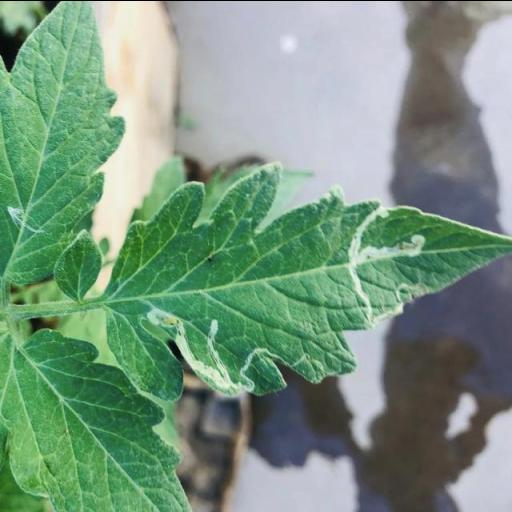Healthy: (0, 328, 198, 512)
Leaf Miner: (103, 160, 512, 402)
